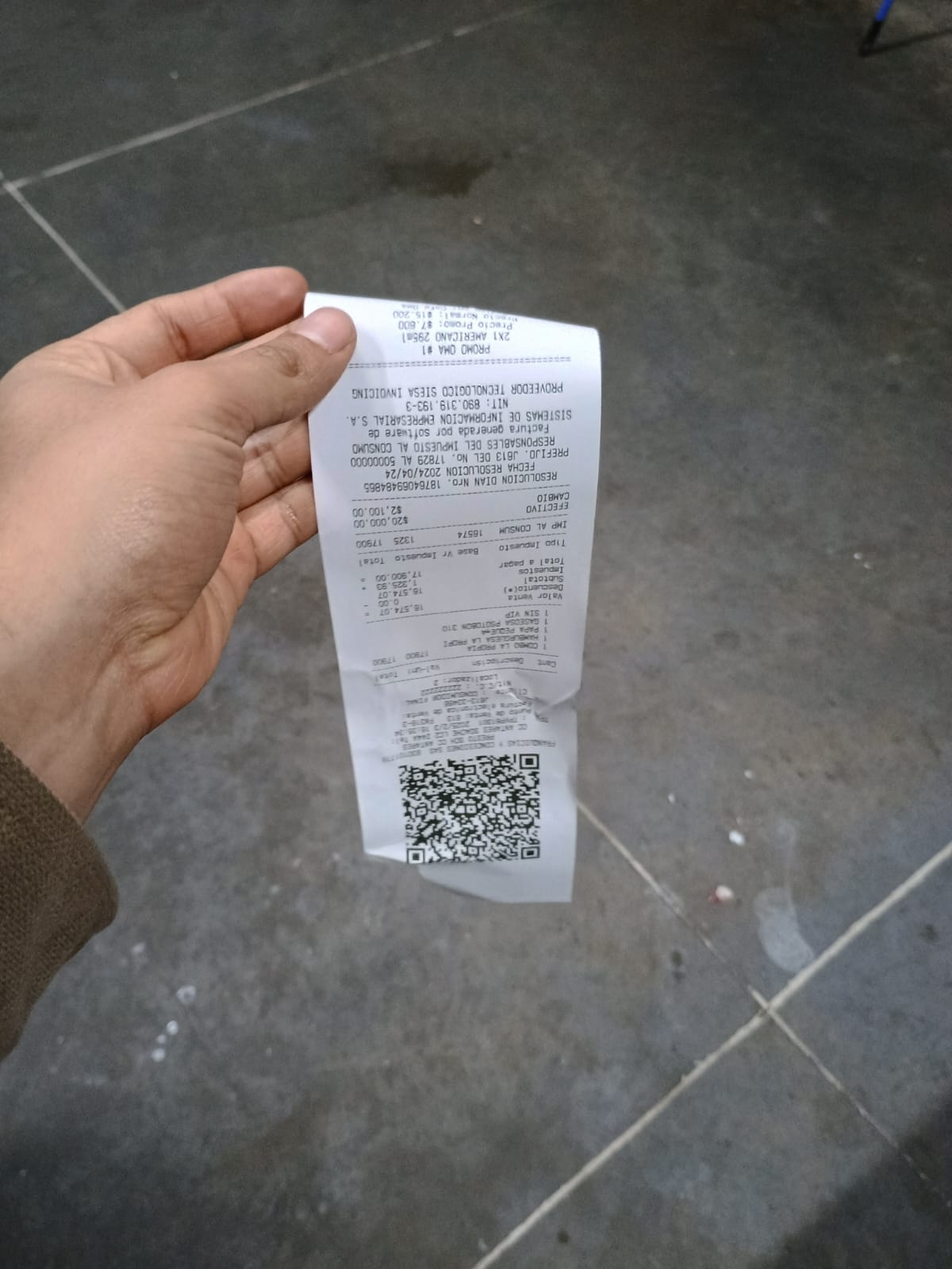Papel: (299, 294, 605, 904)
